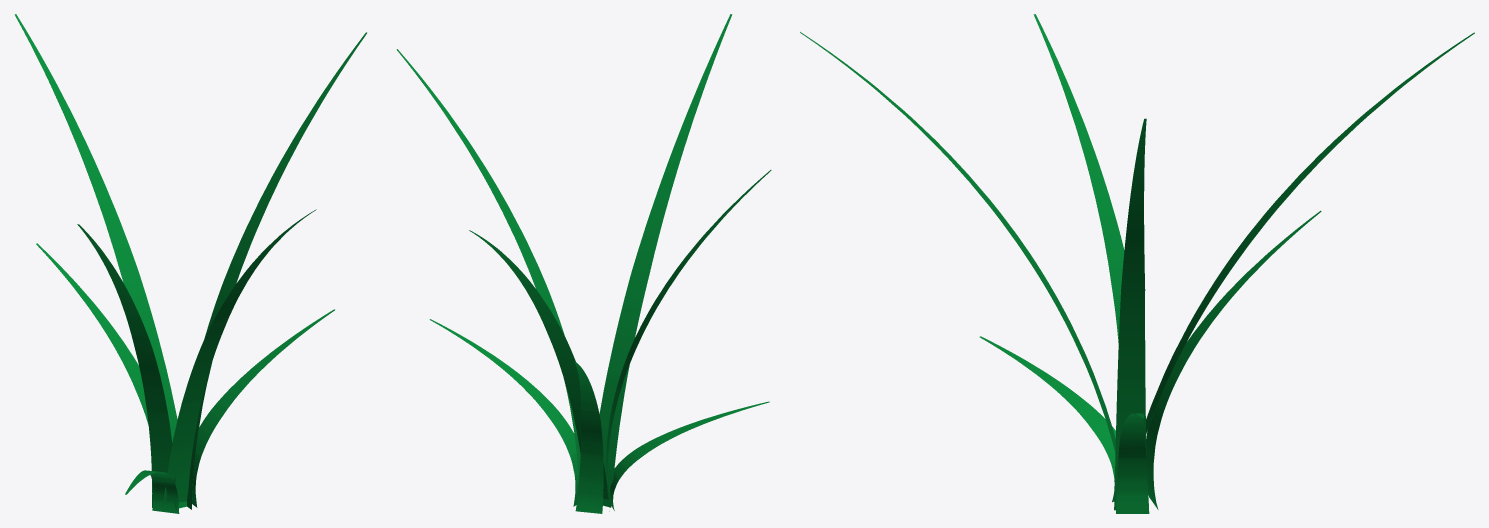
Rendered from Valisnera.fbx.
3 views of the same model, side by side, from view 1: azimuth 30°, elevation 25°; view 2: azimuth 150°, elevation 25°; view 3: azimuth 270°, elevation 25° (orthographic). The views are drawn at different scales.
Visible parts, largest first — view 1: Valisnera; view 2: Valisnera; view 3: Valisnera.
Boxes of the visible parts, x1=… form: Valisnera: x1=14, y1=14, x2=366, y2=513; Valisnera: x1=396, y1=14, x2=771, y2=513; Valisnera: x1=800, y1=14, x2=1474, y2=513.
Size of the model in its own units: 8.23 by 12.06 by 9.87.
